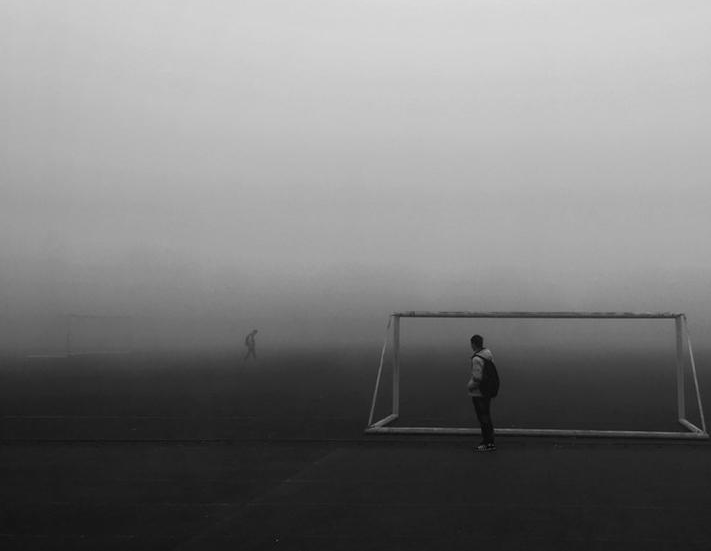person: (466, 333, 500, 453), (242, 329, 259, 363)
